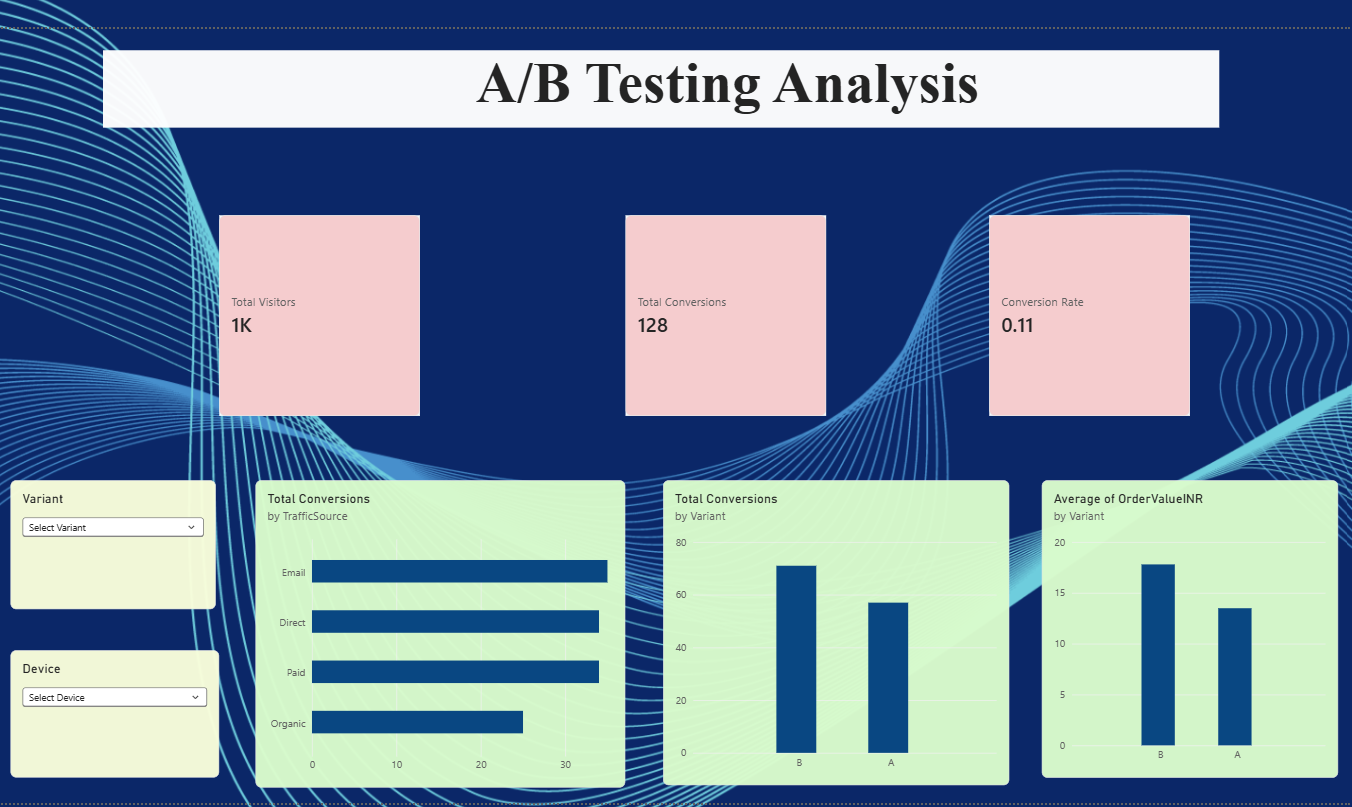

The dashboard page shown, as its layout file describes it:
{"tool":"powerbi","page":{"name":"A/B Testing Analysis","canvas":[1920,1080],"ordinal":3},"visuals":[{"type":"cardVisual","fields":{"Data":["checkout_ab_test.Total Visitors"]},"box":[322.7,259.9,280,280],"z":0},{"type":"cardVisual","fields":{"Data":["checkout_ab_test.Total Conversions"]},"box":[889.5,259.9,280,280],"z":1000},{"type":"cardVisual","fields":{"Data":["checkout_ab_test.Conversion Rate"]},"box":[1397.1,259.9,280,280],"z":2000},{"type":"listSlicer","fields":{"Values":["checkout_ab_test.Variant"]},"box":[31.4,629.7,286,179.7],"z":3000},{"type":"listSlicer","fields":{"Values":["checkout_ab_test.Device"]},"box":[31.4,866.9,291.3,177.9],"z":4000},{"type":"clusteredColumnChart","fields":{"Category":["checkout_ab_test.Variant"],"Y":["checkout_ab_test.Total Conversions"]},"box":[941.9,629.7,483.1,425.6],"z":4001},{"type":"clusteredColumnChart","fields":{"Category":["checkout_ab_test.Variant"],"Y":["Avg(checkout_ab_test.OrderValueINR)"]},"box":[1470.4,629.7,413.4,415.1],"z":4002},{"type":"clusteredBarChart","fields":{"Category":["checkout_ab_test.TrafficSource"],"Y":["checkout_ab_test.Total Conversions"]},"box":[373.3,629.7,516.3,429.1],"z":4003},{"type":"textbox","box":[160.5,29.7,1557.6,108.1],"z":4004}]}

Visuals, with their boxes in screenshot pixels (x1, y1, x2, y2):
cardVisual - checkout_ab_test.Total Visitors: [left=215, top=212, right=416, bottom=413]
cardVisual - checkout_ab_test.Total Conversions: [left=623, top=212, right=824, bottom=413]
cardVisual - checkout_ab_test.Conversion Rate: [left=988, top=212, right=1190, bottom=413]
listSlicer - checkout_ab_test.Variant: [left=5, top=478, right=211, bottom=607]
listSlicer - checkout_ab_test.Device: [left=5, top=649, right=215, bottom=777]
clusteredColumnChart - checkout_ab_test.Variant x checkout_ab_test.Total Conversions: [left=661, top=478, right=1008, bottom=784]
clusteredColumnChart - checkout_ab_test.Variant x Avg(checkout_ab_test.OrderValueINR): [left=1041, top=478, right=1339, bottom=777]
clusteredBarChart - checkout_ab_test.TrafficSource x checkout_ab_test.Total Conversions: [left=251, top=478, right=623, bottom=787]
textbox: [left=98, top=46, right=1219, bottom=124]
